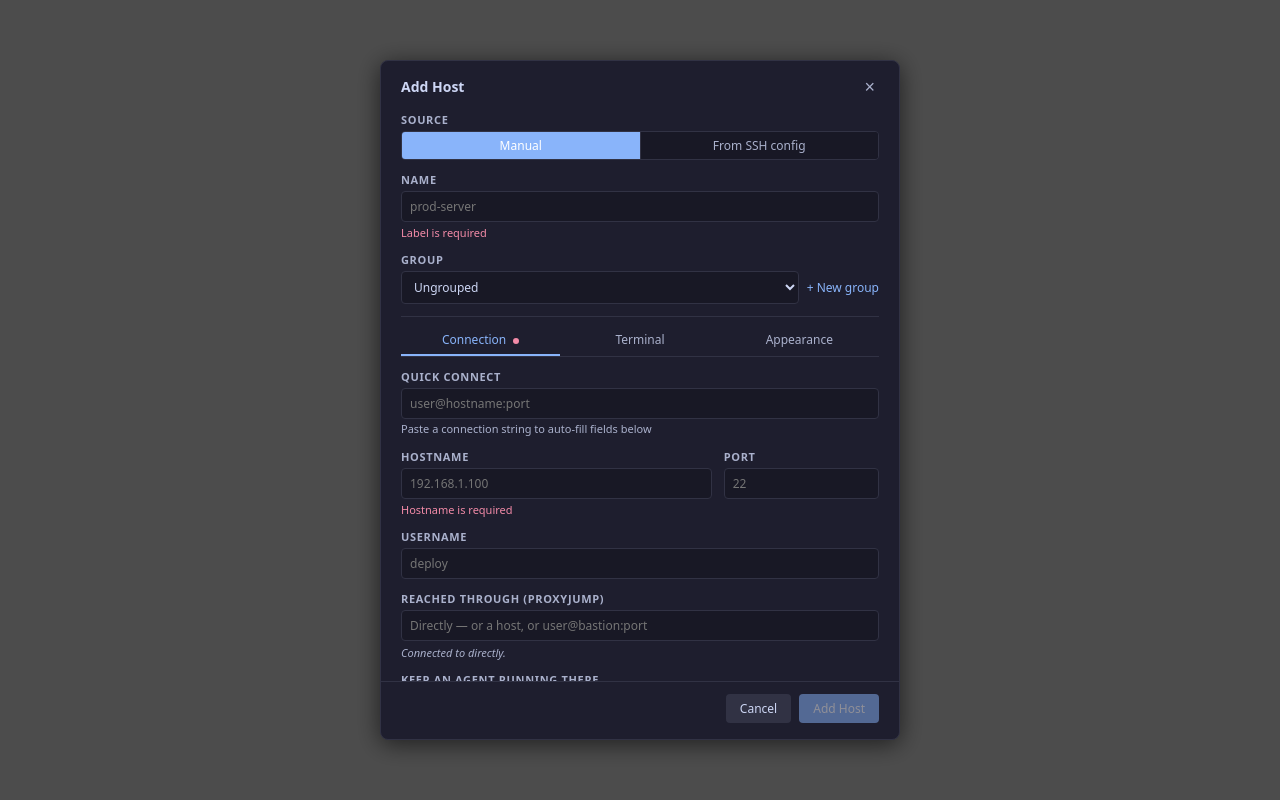
Test case: HostModal Default Shell: the host's default launch profile (#802) › offers only Automatic for a host being added, and says why
The width and height of the screenshot is (1280, 800).
Click the tab with id "tab-terminal" at (640, 340), box [560,325,720,356]
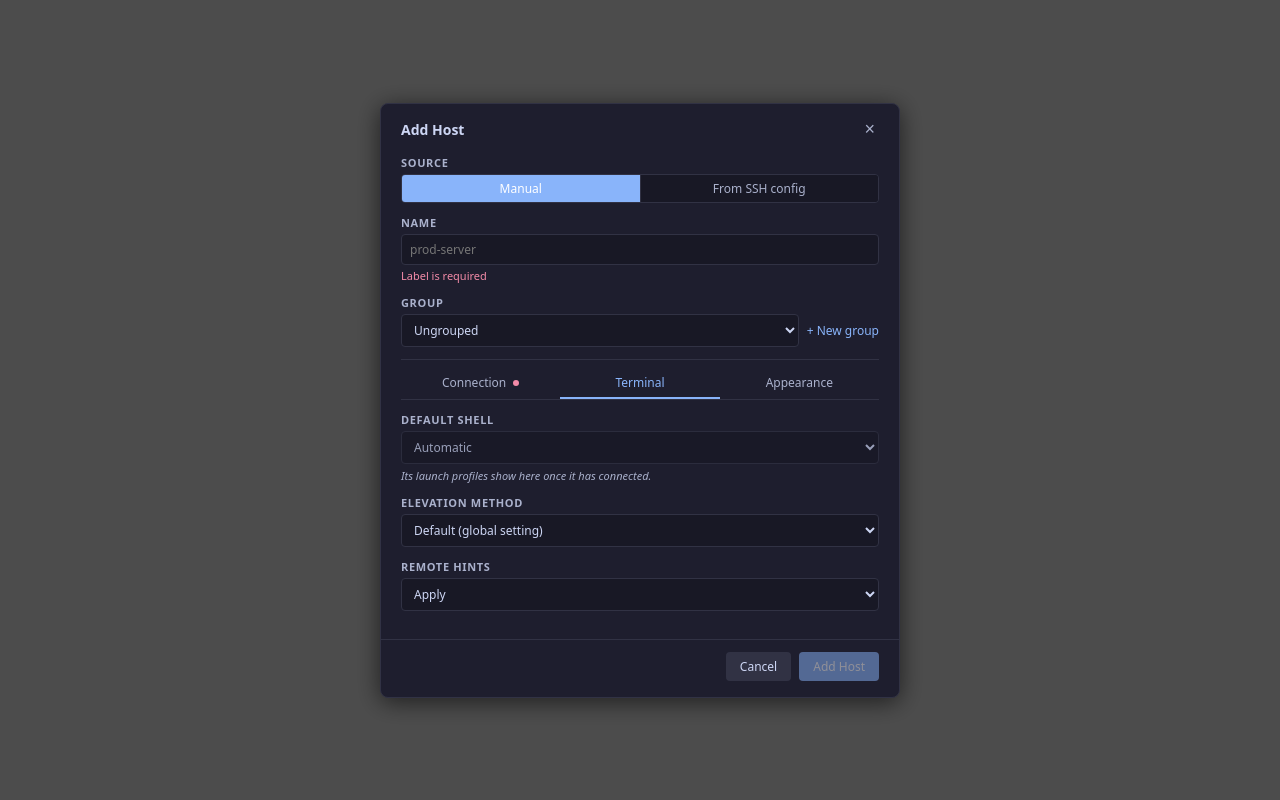
Check: the text with class "field-hint" reads "Its launch profiles show here once it has connected.", box [401,468,651,482]
